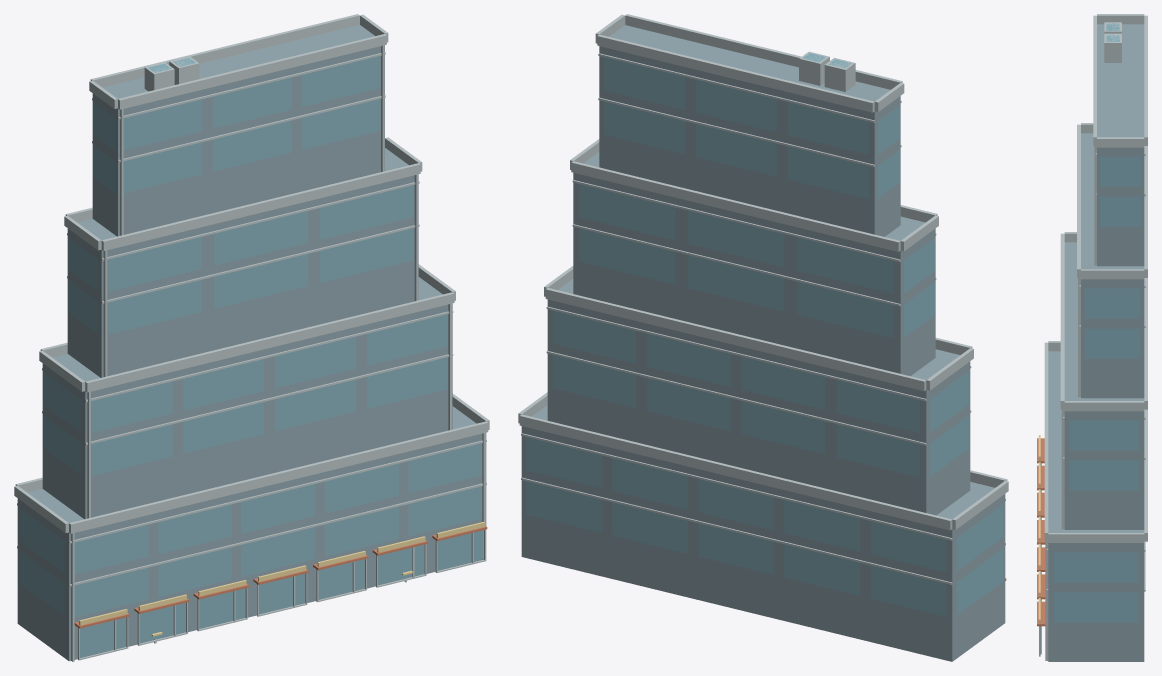
Rendered from commercial_4x1_terraces.glb.
3 views of the same model, side by side, from view 1: azimuth 30°, elevation 25°; view 2: azimuth 150°, elevation 25°; view 3: azimuth 270°, elevation 25° (orthographic). The views are drawn at different scales.
Parts seen in each view (by area): view 1: commercial_4x1_terraces_0; view 2: commercial_4x1_terraces_0; view 3: commercial_4x1_terraces_0.
Part boxes in pixels (box(x1,y1,x2,y2)): commercial_4x1_terraces_0: box(14, 14, 489, 661); commercial_4x1_terraces_0: box(518, 14, 1008, 661); commercial_4x1_terraces_0: box(1037, 14, 1147, 661).
Bounding box in the file's own units: 31 × 37.5 × 7.5.
